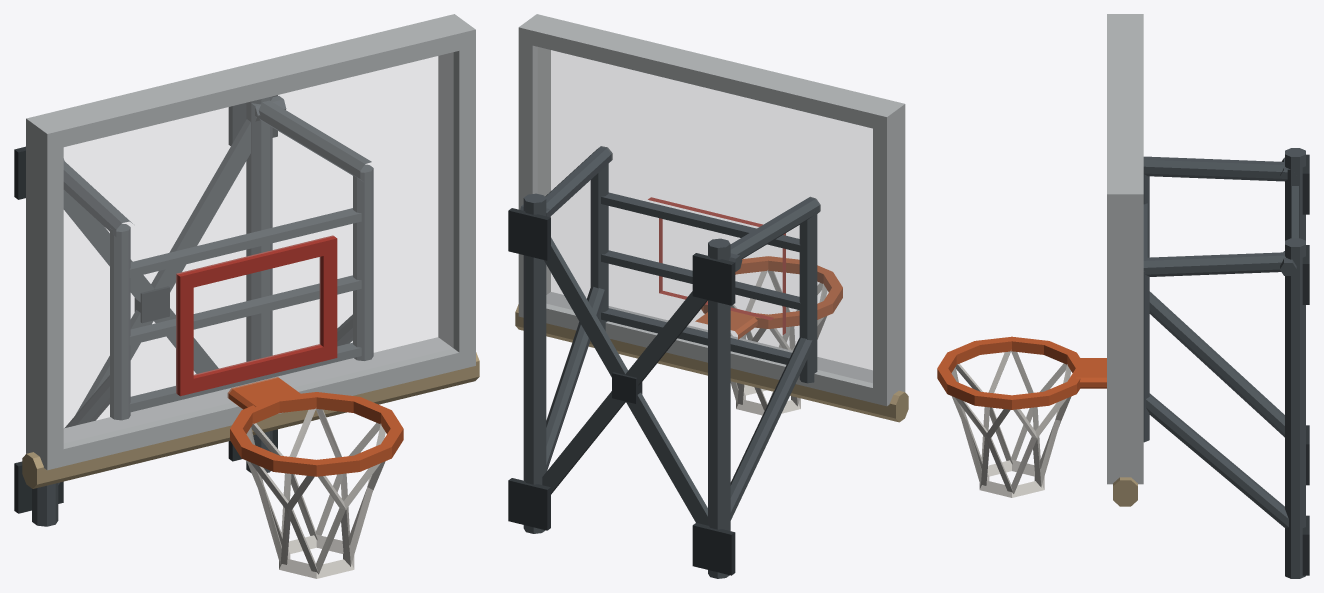
The model's file is basketball-backboard-2624e9.glb.
3 renders of one model, left to right at view 1: azimuth 30°, elevation 25°; view 2: azimuth 150°, elevation 25°; view 3: azimuth 270°, elevation 25°, orthographic. The views are drawn at different scales.
Visible parts, largest first — view 1: board-glass, backboard, wall-frame, net-mesh; view 2: board-glass, backboard, wall-frame, net-mesh; view 3: backboard, wall-frame, net-mesh.
Part boxes in pixels (left/top/right/bottom): board-glass: left=64, top=52, right=453, bottom=442; backboard: left=22, top=14, right=479, bottom=488; wall-frame: left=14, top=95, right=277, bottom=526; net-mesh: left=246, top=408, right=385, bottom=578; board-glass: left=538, top=47, right=872, bottom=382; backboard: left=515, top=14, right=908, bottom=520; wall-frame: left=508, top=193, right=735, bottom=578; net-mesh: left=730, top=270, right=827, bottom=415; backboard: left=937, top=14, right=1296, bottom=527; wall-frame: left=1285, top=148, right=1309, bottom=578; net-mesh: left=951, top=350, right=1071, bottom=497.
Size of the model in its own units: 1.24 by 1.32 by 1.05.
